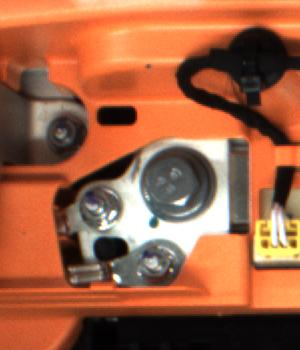nut_b: (144, 149, 212, 220)
screw_s: (79, 180, 125, 226), (40, 116, 82, 158), (138, 245, 184, 283)
